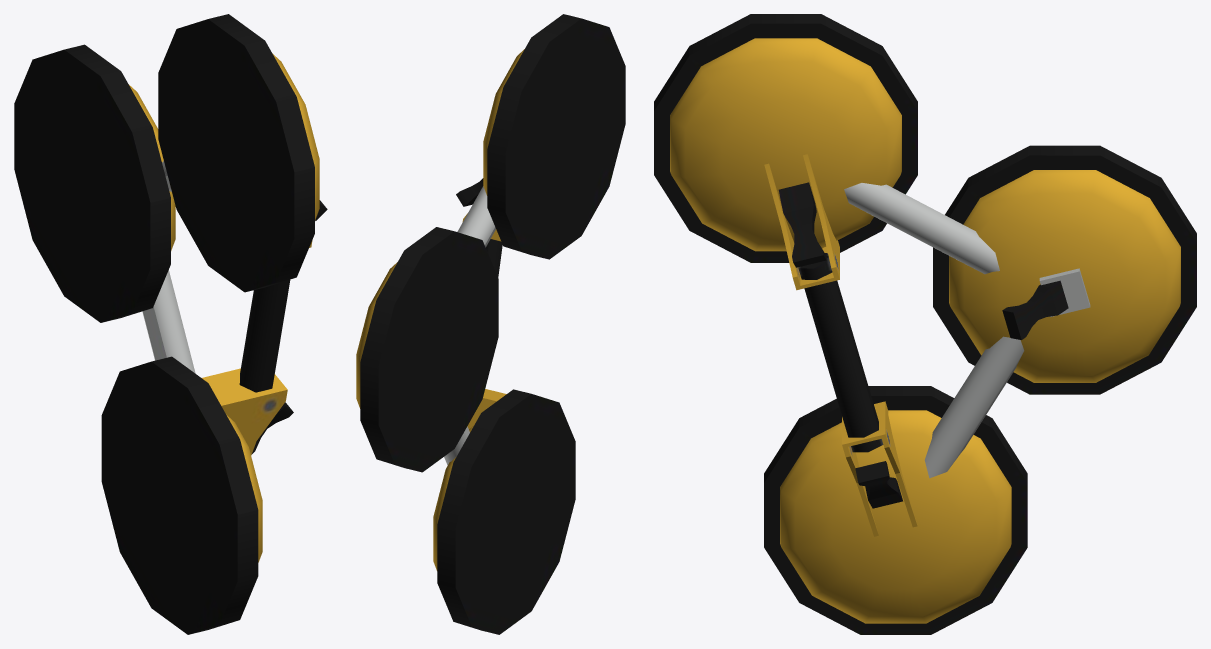
The picture shows the model from 3 angles, left to right: view 1: azimuth 30°, elevation 25°; view 2: azimuth 150°, elevation 25°; view 3: azimuth 270°, elevation 25°; orthographic projection. The views are drawn at different scales.
Parts seen in each view (by area): view 1: XIPAN_pCube13_Xipan_Gong_ju; view 2: XIPAN_pCube13_Xipan_Gong_ju; view 3: XIPAN_pCube13_Xipan_Gong_ju.
Boxes of the visible parts, x1=… form: XIPAN_pCube13_Xipan_Gong_ju: x1=14, y1=14, x2=327, y2=634; XIPAN_pCube13_Xipan_Gong_ju: x1=356, y1=14, x2=625, y2=634; XIPAN_pCube13_Xipan_Gong_ju: x1=654, y1=14, x2=1196, y2=634.
Size of the model in its own units: 5.37 by 30.83 by 24.81.
1 material, 1 textured.
